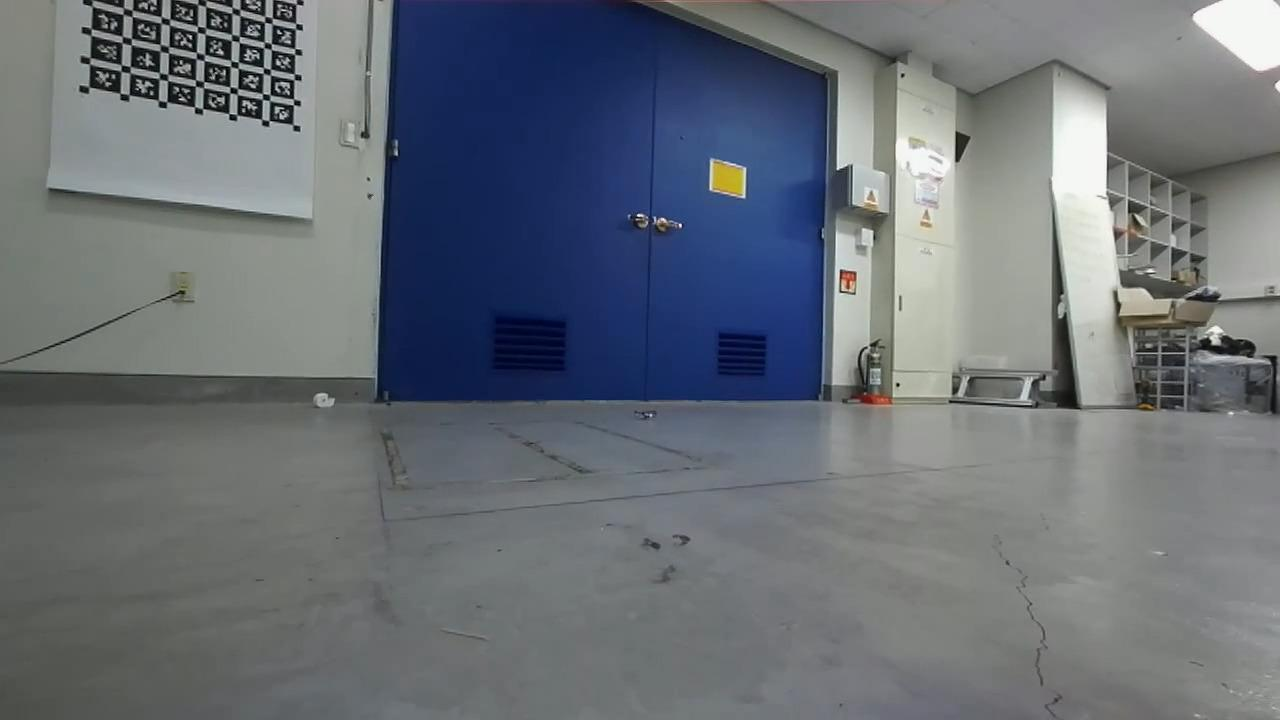crazyflie: (620, 401, 672, 427)
